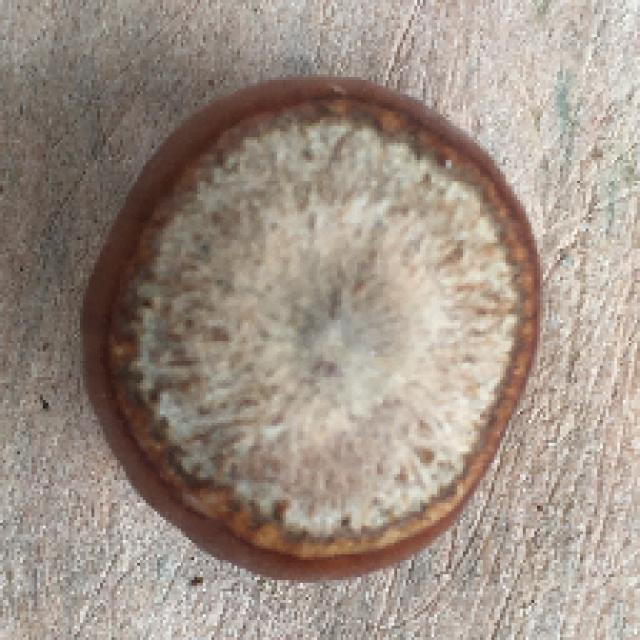qualityHazelnut: (75, 73, 544, 580)
